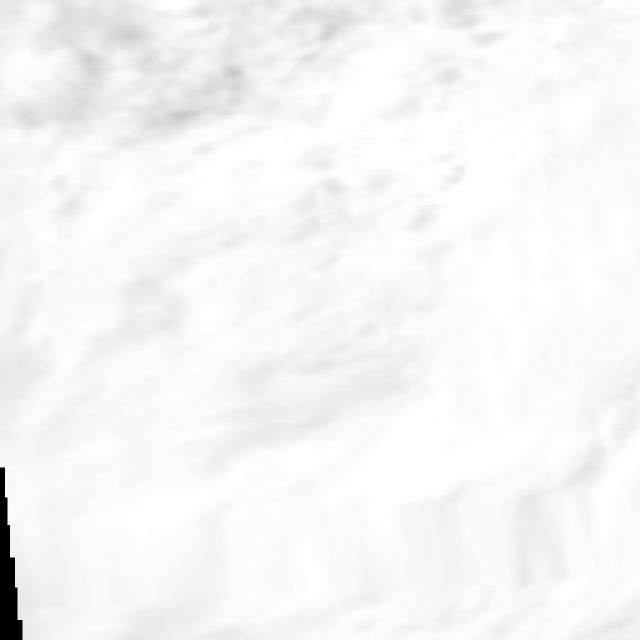CB: (49, 272, 640, 616), (312, 9, 628, 627)
